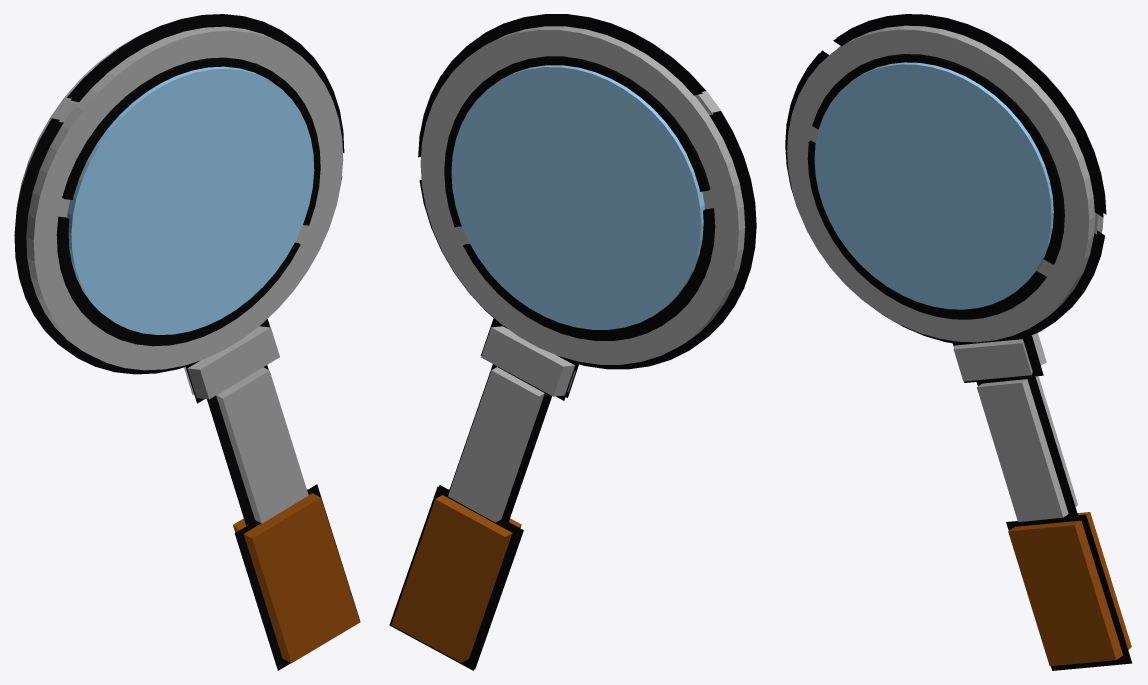
Rendered from Lupa.fbx.
The picture shows the model from 3 angles, left to right: view 1: azimuth 30°, elevation 25°; view 2: azimuth 150°, elevation 25°; view 3: azimuth 330°, elevation 25°; orthographic projection. The views are drawn at different scales.
Parts seen in each view (by area): view 1: Lupa; view 2: Lupa; view 3: Lupa.
Boxes of the visible parts, <box> form: Lupa: <box>14,14,360,670</box>; Lupa: <box>389,14,756,670</box>; Lupa: <box>785,14,1132,670</box>.
Size of the model in its own units: 39.79 by 72.56 by 7.03.
